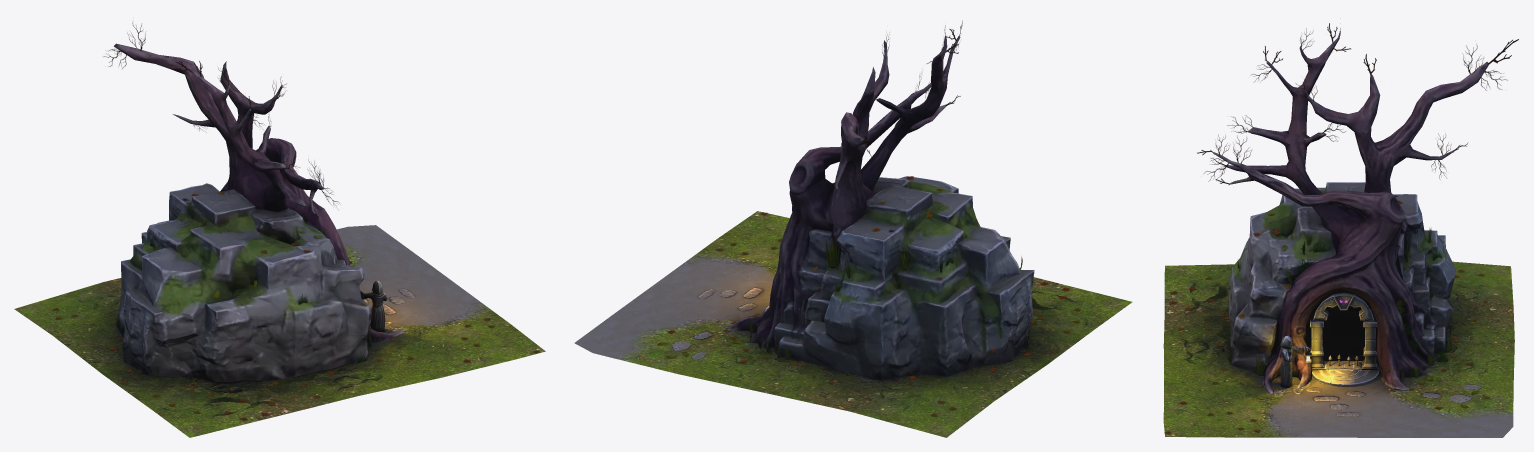
File: PRP_MouthGate.glb
The picture shows the model from 3 angles, left to right: view 1: azimuth 30°, elevation 25°; view 2: azimuth 150°, elevation 25°; view 3: azimuth 270°, elevation 25°; orthographic projection. The views are drawn at different scales.
Visible parts, largest first — view 1: Object_3, Object_5, Object_6; view 2: Object_3, Object_5, Object_6; view 3: Object_3, Object_5, Object_6, Object_2.
Part boxes in pixels (x1,y1,x2,y2): Object_3: (114, 43, 403, 381); Object_5: (14, 225, 545, 437); Object_6: (52, 23, 540, 420); Object_3: (727, 35, 1034, 379); Object_5: (574, 211, 1132, 437); Object_6: (657, 21, 1080, 416); Object_3: (1212, 28, 1488, 393); Object_5: (1163, 261, 1514, 437); Object_6: (1164, 23, 1518, 434); Object_2: (1310, 290, 1379, 386).
Bounding box in the file's own units: 12.78 × 11.05 × 11.17.
Materials: 5 (4 with a texture image).
